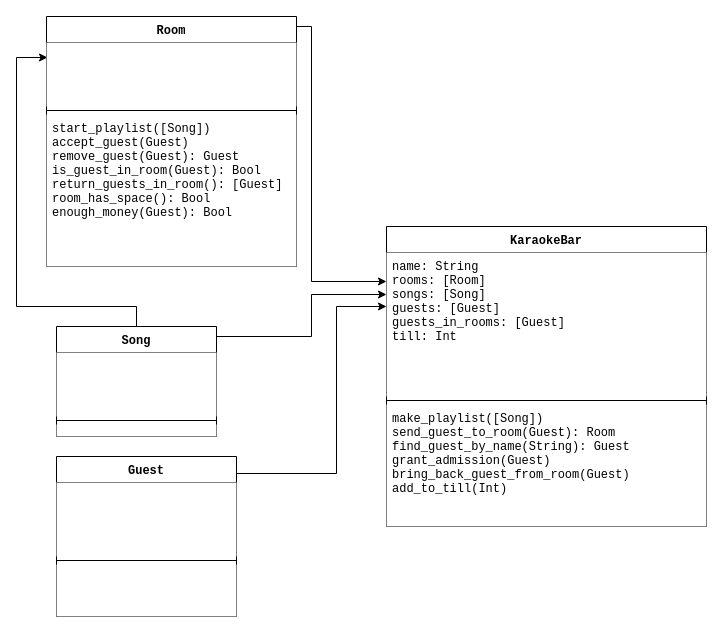
Image size: 723x633. Some labels were removed from this diagram. Here are the shapes that lost their labels. From the top down, the centre of each, then its label:
At point (171, 74): "playlist: [Song] guests: [Guest] max_size: Int entry_fee: Int".
At point (136, 384): "title: String artist: String".
At point (146, 519): "name: String wallet: Int in_room: Bool favourite_song: String".
At point (146, 590): "changed_location() spend_money(Int) recognise_song([Song])".
